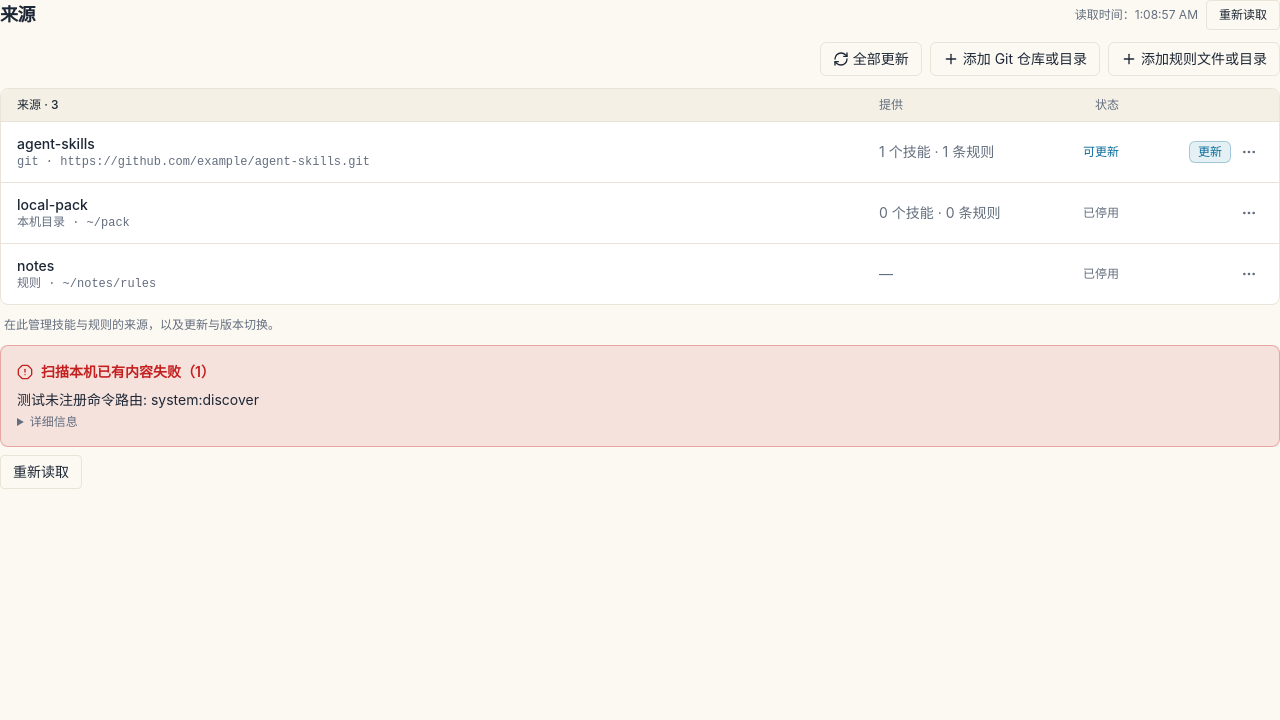
来源页 › 停用、启用、移除都走对应命令；移除先确认
Click the button named "agent-skills 的更多操作": (1249, 152) [1235, 138, 1263, 166]
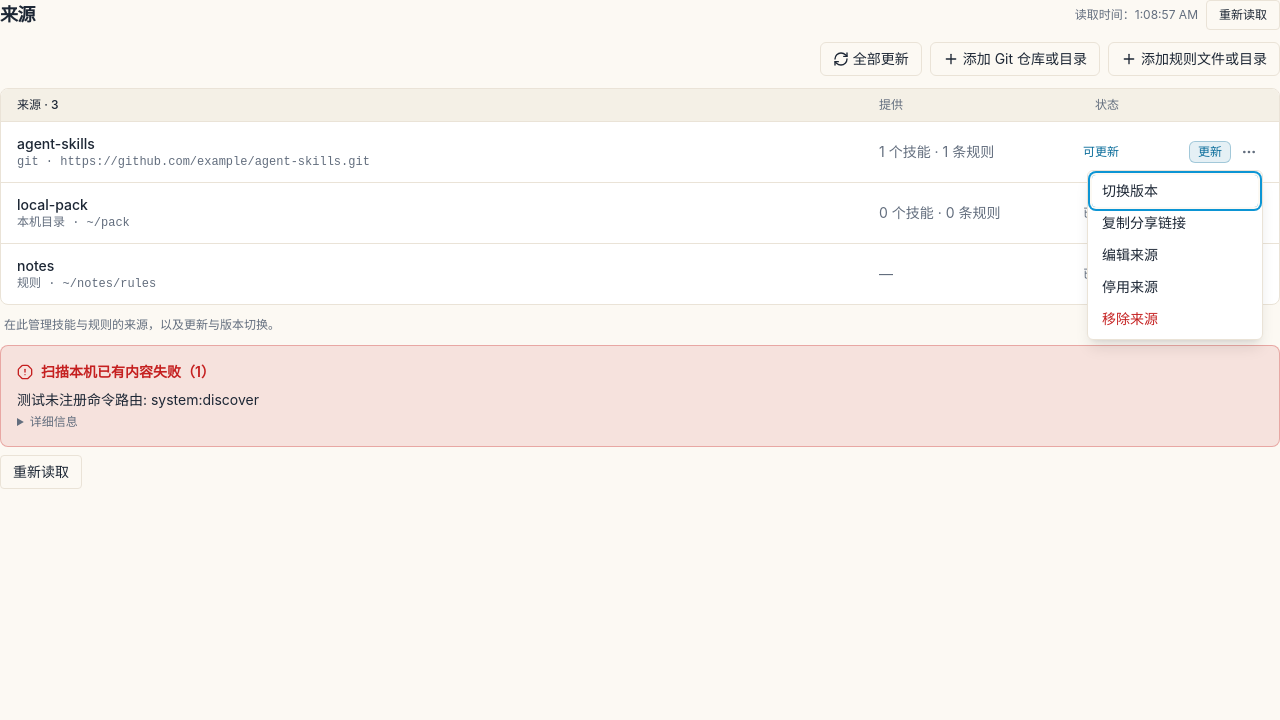
Click the menu item with test id "source-toggle-agent-skills": (1175, 287) [1092, 271, 1258, 303]
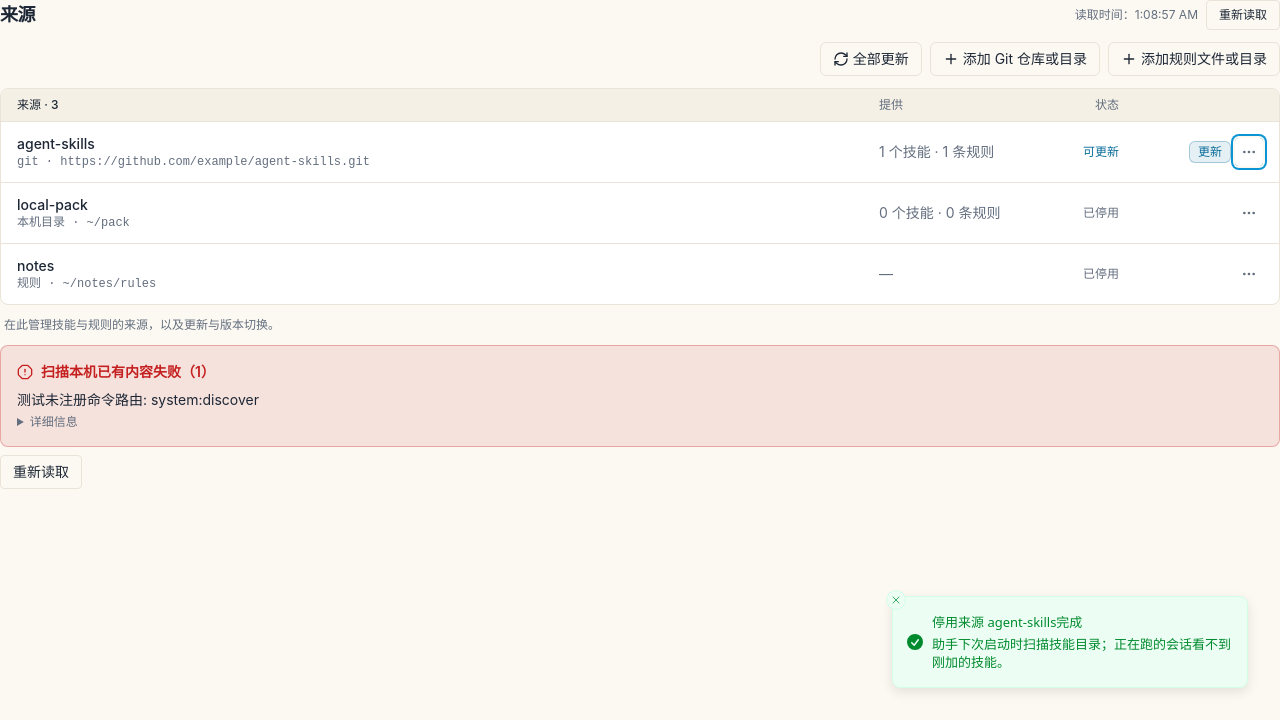
Click the button named "notes 的更多操作": (1249, 274) [1235, 260, 1263, 288]
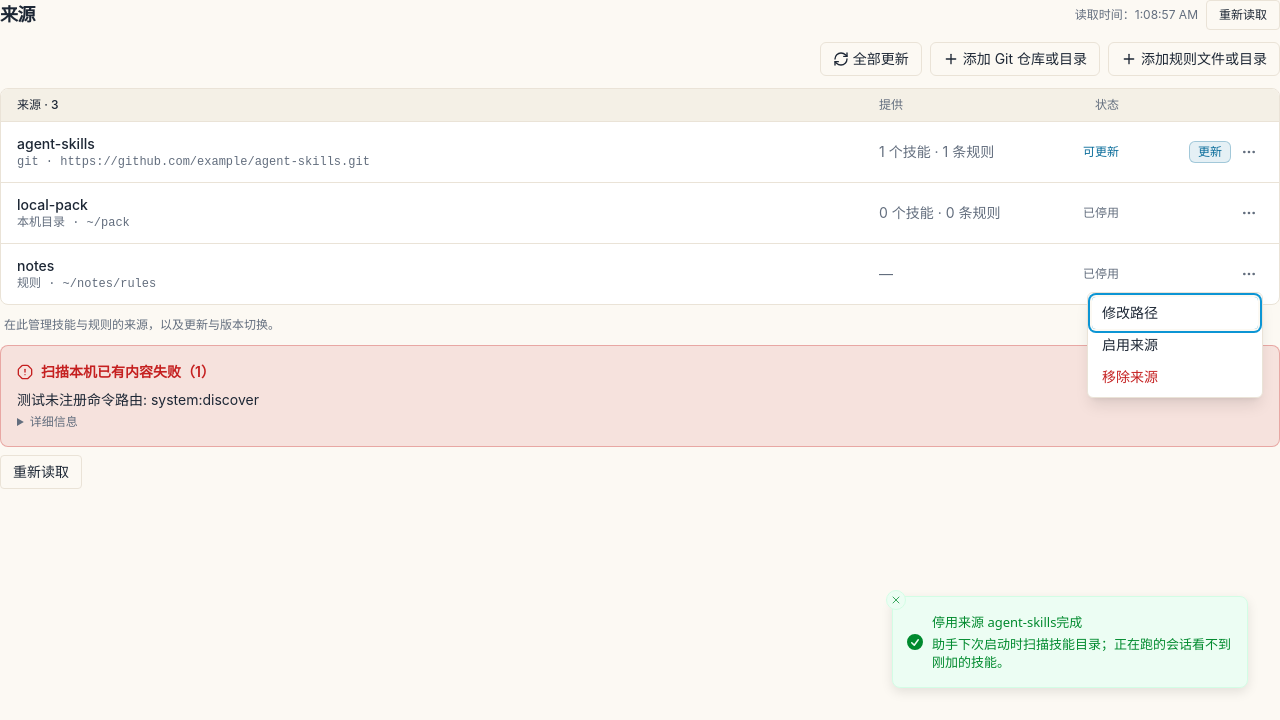
Click the menu item with test id "source-toggle-notes": (1175, 345) [1092, 329, 1258, 361]
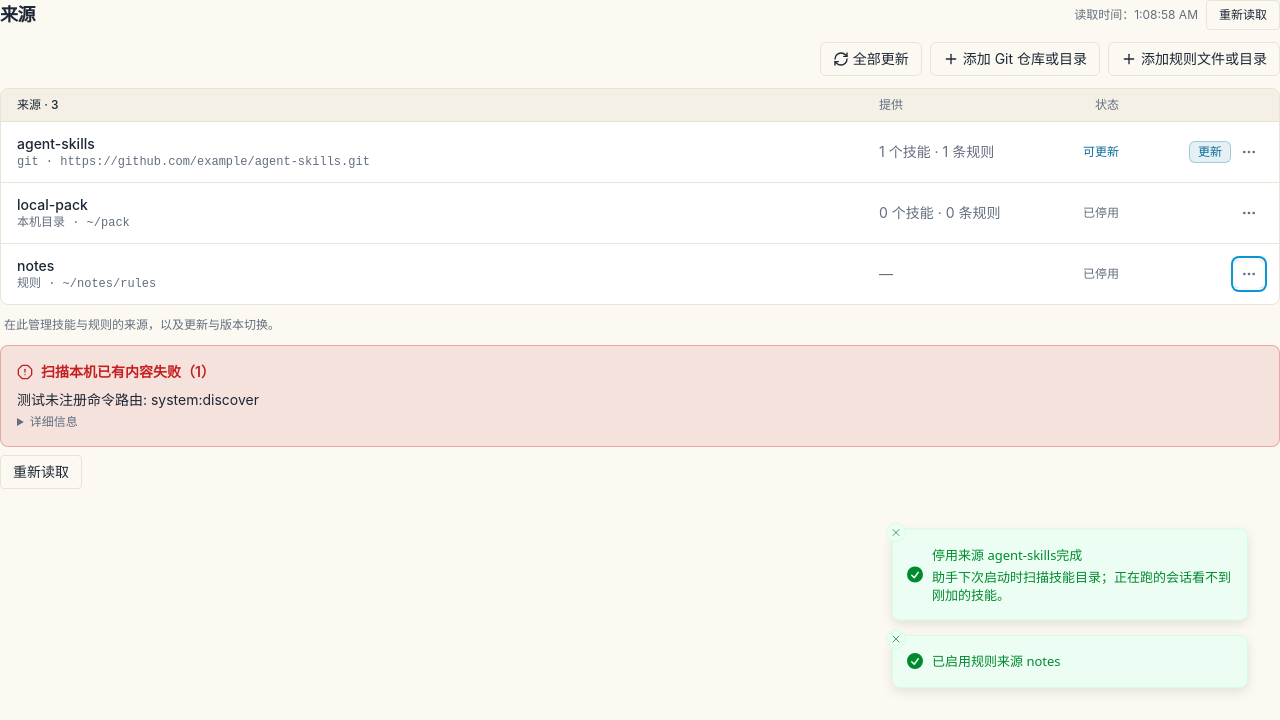
Click the button named "local-pack 的更多操作": (1249, 213) [1235, 199, 1263, 227]
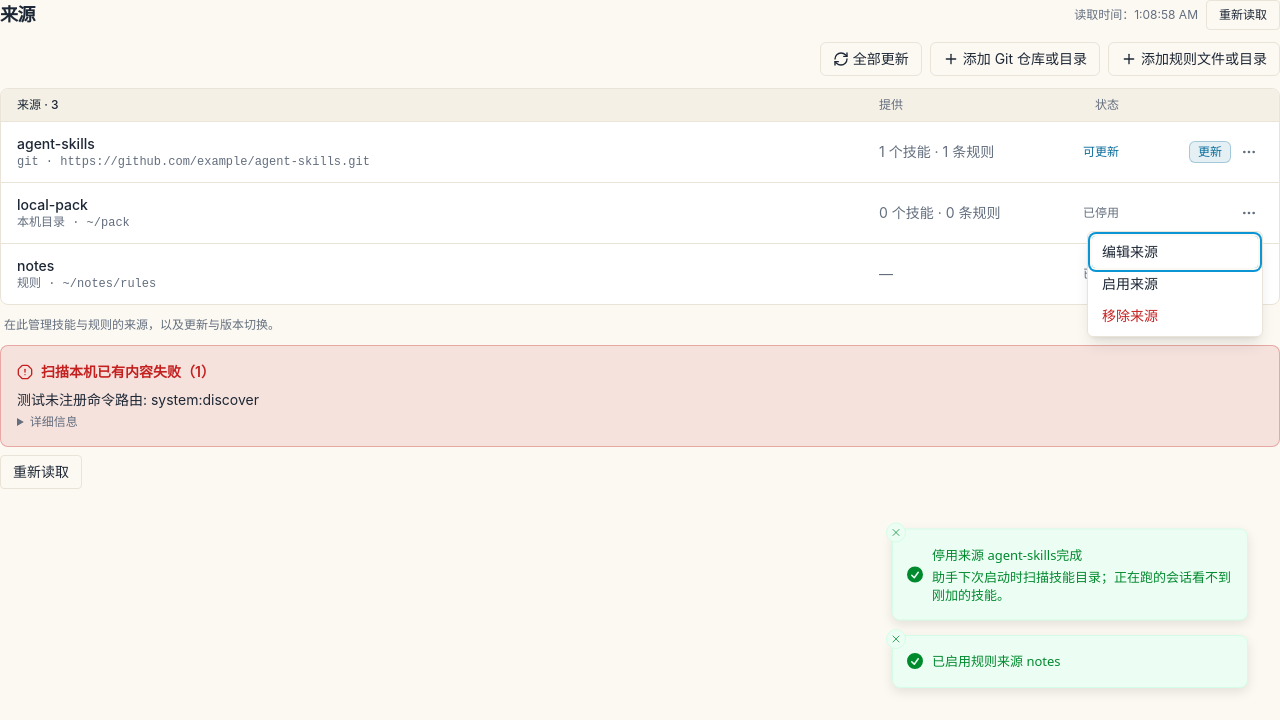
Click the menu item with test id "source-remove-local-pack": (1175, 316) [1092, 300, 1258, 332]
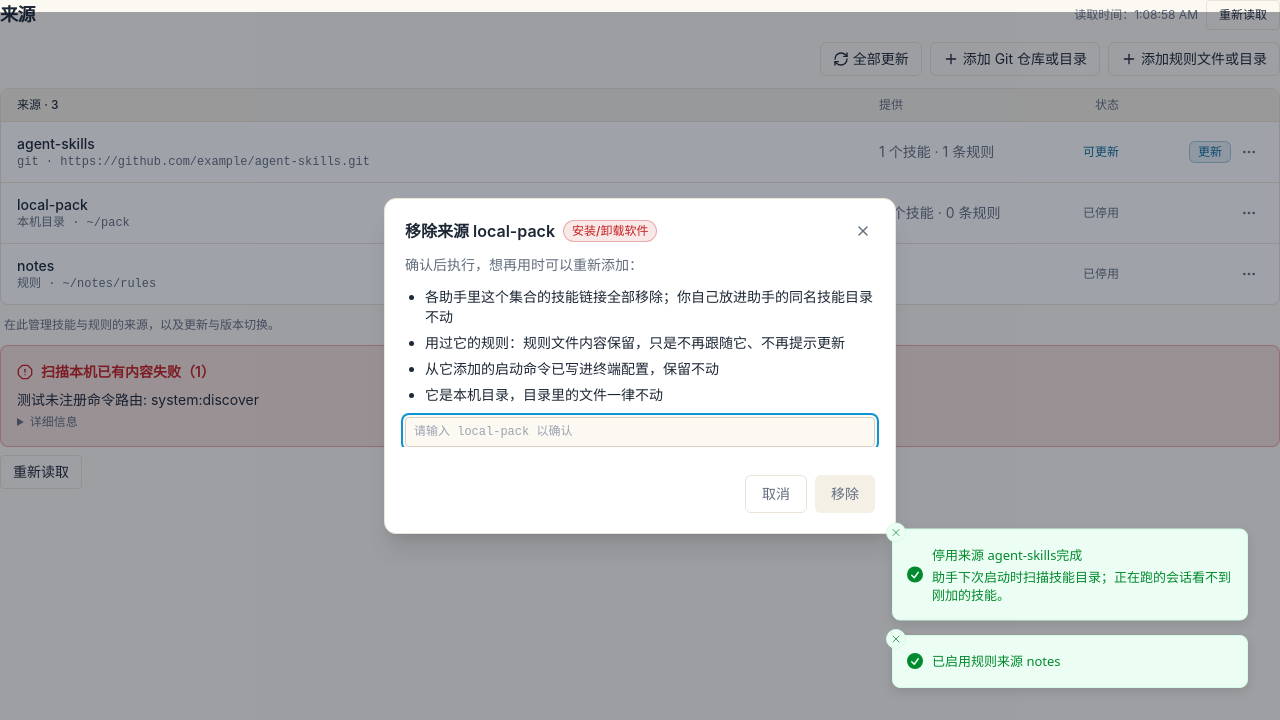
Result: the dialog "移除来源 local-pack" shows "目录里的文件一律不动" at [425, 386, 663, 403]
